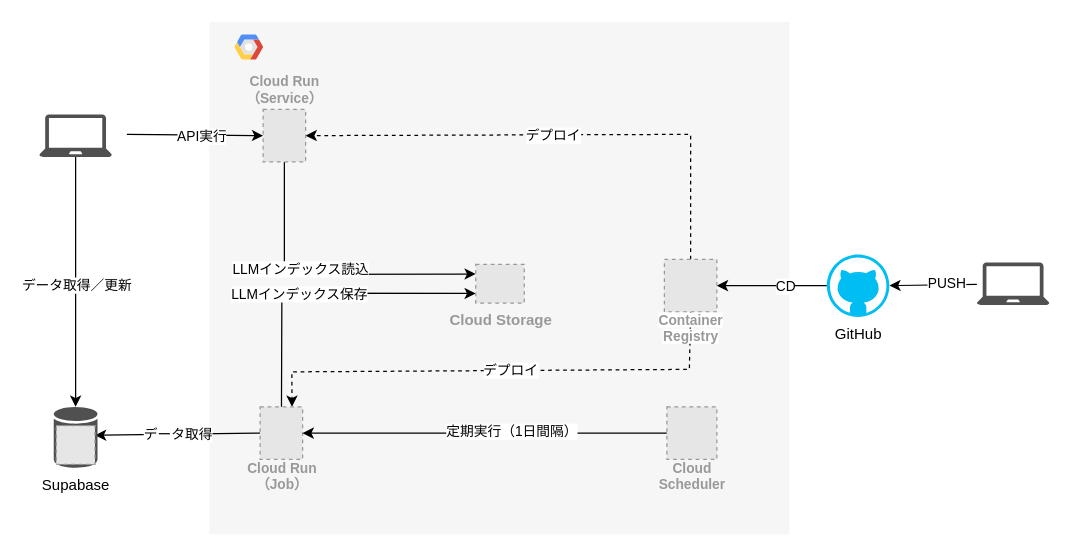
Image size: 1071x555. Some labels were removed from this diagram. Grey dashed boxes stand in for pictures. Here are the shapes that lost their labels. From the top down, the box of each, then its label:
(39, 114, 111, 156): サンプルアプリ
(209, 21, 789, 534): Google Cloud Platform
(976, 262, 1049, 304): 開発端末
